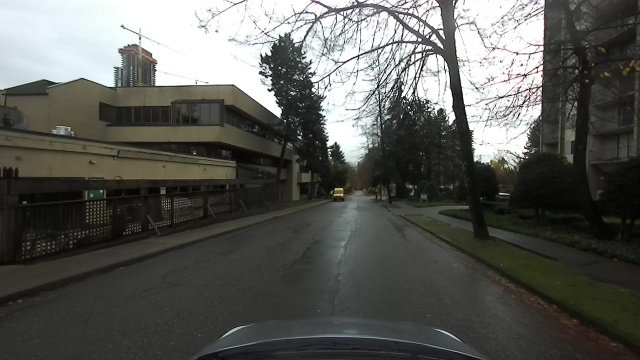car: (331, 187, 346, 201)
